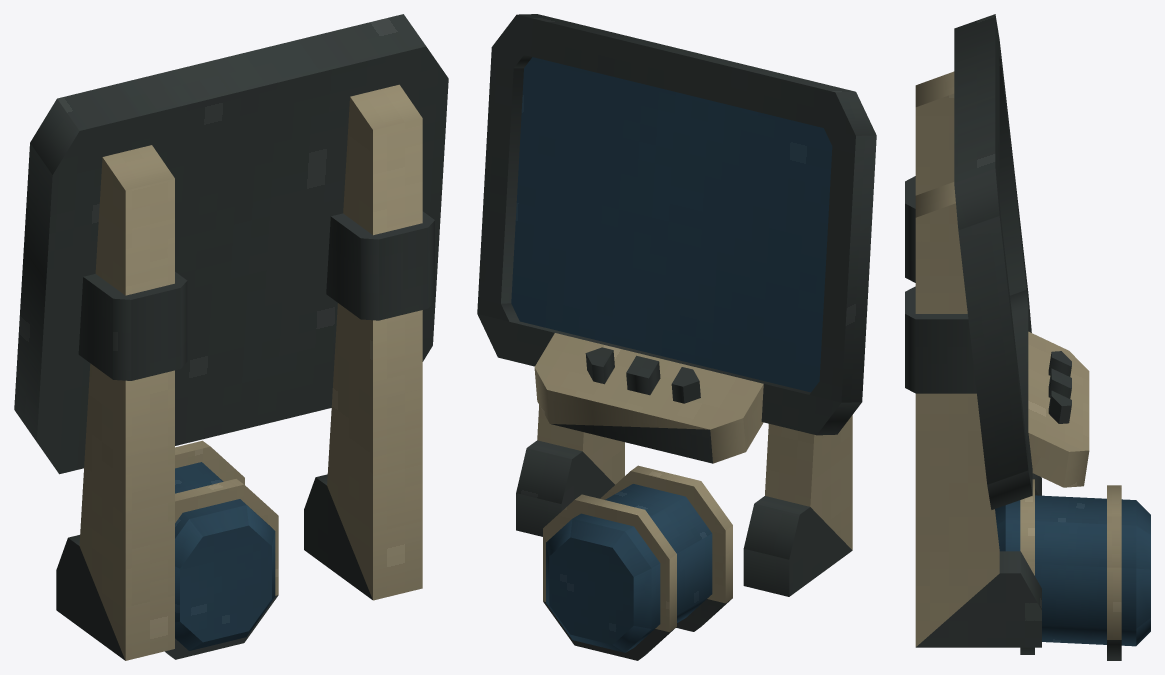
Rendered from item_artifactDetectorMk3.glb.
The picture shows the model from 3 angles, left to right: view 1: azimuth 30°, elevation 25°; view 2: azimuth 150°, elevation 25°; view 3: azimuth 270°, elevation 25°; orthographic projection. The views are drawn at different scales.
Visible parts, largest first — view 1: Donor_station-computer-screen_0, Donor_station-container-flat_0; view 2: Donor_station-computer-screen_0, Donor_station-container-flat_0; view 3: Donor_station-computer-screen_0, Donor_station-container-flat_0.
Boxes of the visible parts, x1=… form: Donor_station-computer-screen_0: x1=14, y1=14, x2=448, y2=660; Donor_station-container-flat_0: x1=165, y1=440, x2=278, y2=659; Donor_station-computer-screen_0: x1=477, y1=14, x2=876, y2=596; Donor_station-container-flat_0: x1=543, y1=465, x2=732, y2=660; Donor_station-computer-screen_0: x1=905, y1=14, x2=1089, y2=647; Donor_station-container-flat_0: x1=995, y1=479, x2=1150, y2=660.
Size of the model in its own units: 0.17 by 0.2475 by 0.1.
3 materials, 3 textured.
